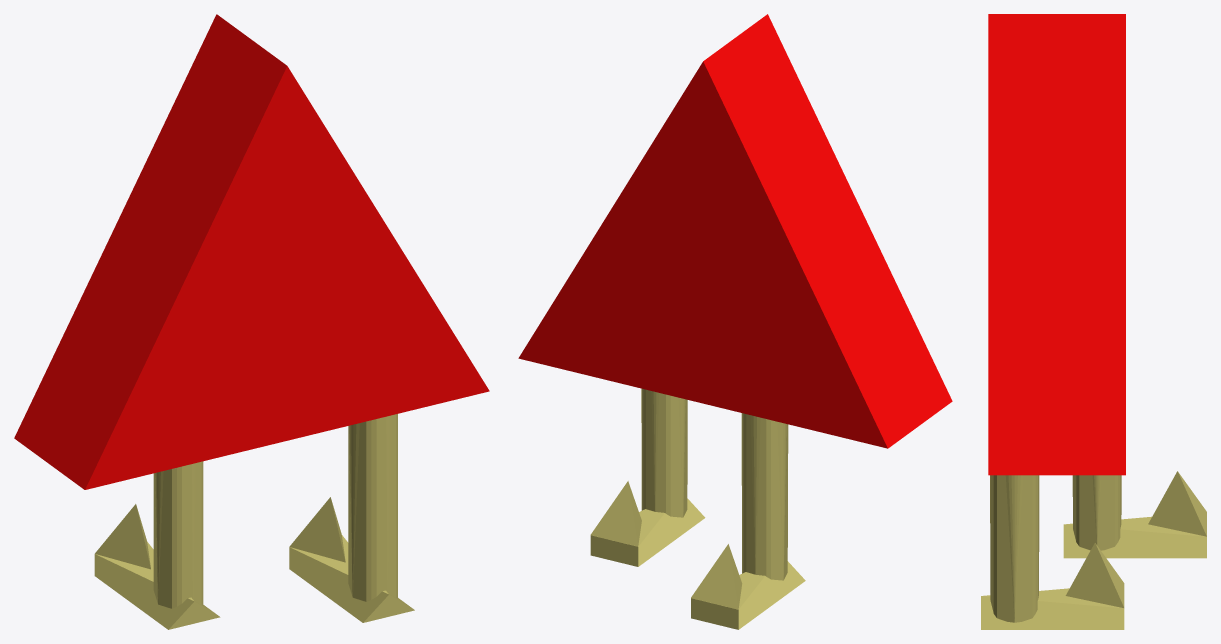
File: Triangle enemy.fbx
3 renders of one model, left to right at view 1: azimuth 30°, elevation 25°; view 2: azimuth 150°, elevation 25°; view 3: azimuth 270°, elevation 25°, orthographic. The views are drawn at different scales.
Visible parts, largest first — view 1: Plane, Cube.001, Cube.000; view 2: Plane, Cube.000, Cube.001; view 3: Plane, Cube.001, Cube.000.
Part boxes in pixels (x1,y1,x2,y2): Plane: [14, 14, 489, 489]; Cube.001: [289, 414, 414, 622]; Cube.000: [94, 461, 220, 629]; Plane: [518, 14, 952, 448]; Cube.000: [691, 413, 805, 629]; Cube.001: [590, 388, 705, 566]; Plane: [988, 14, 1125, 475]; Cube.001: [981, 475, 1124, 629]; Cube.000: [1063, 471, 1206, 558].
Bounding box in the file's own units: 312 × 422 × 155.
